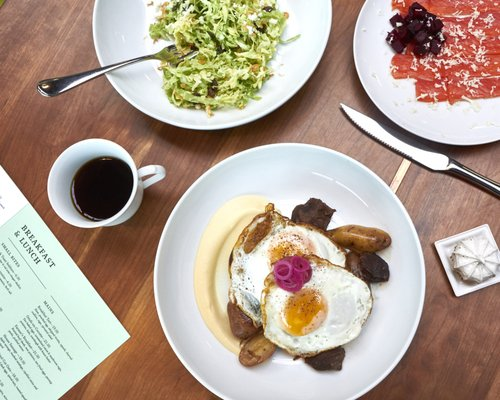pizza: (46, 138, 166, 228)
salad: (33, 44, 197, 97)
